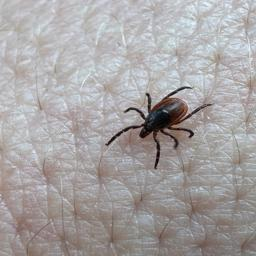Ixodes scapularis: (105, 84, 214, 169)
